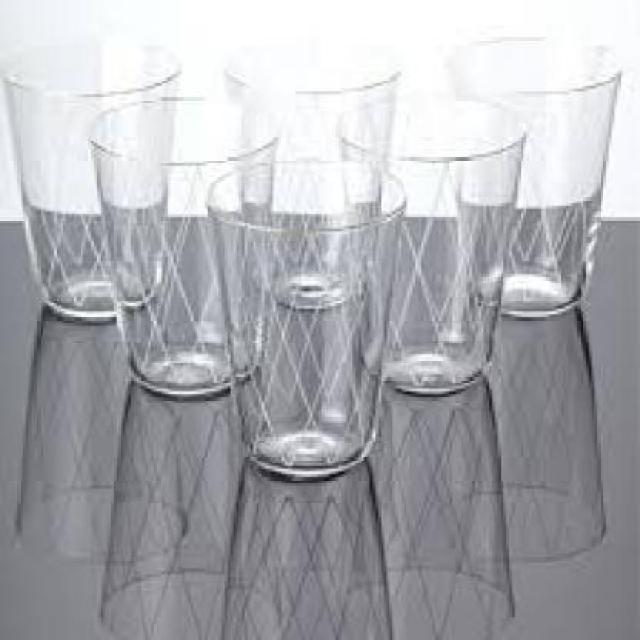kaca: (202, 160, 396, 474), (86, 96, 277, 396), (332, 86, 516, 397), (3, 37, 177, 320), (444, 30, 618, 312), (218, 49, 402, 309)
